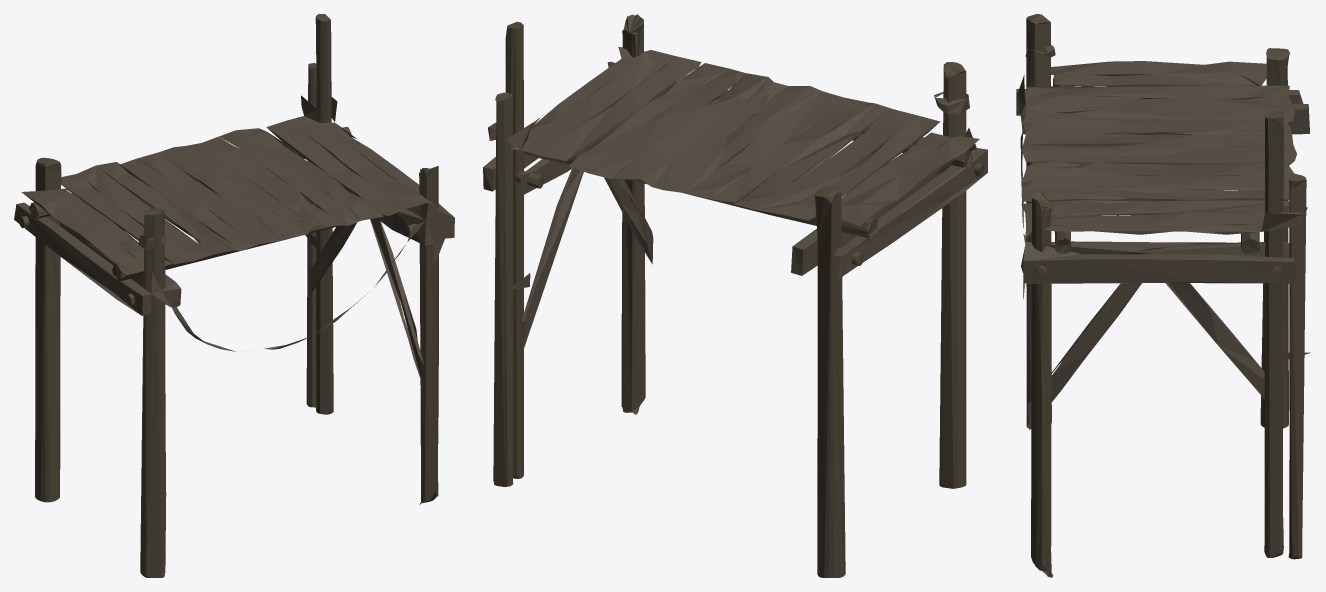
The model's file is pier-end-lod1.glb.
3 views of the same model, side by side, from view 1: azimuth 30°, elevation 25°; view 2: azimuth 150°, elevation 25°; view 3: azimuth 270°, elevation 25° (orthographic). The views are drawn at different scales.
Bounding box in the file's own units: 3.5 × 4.24 × 2.46.
